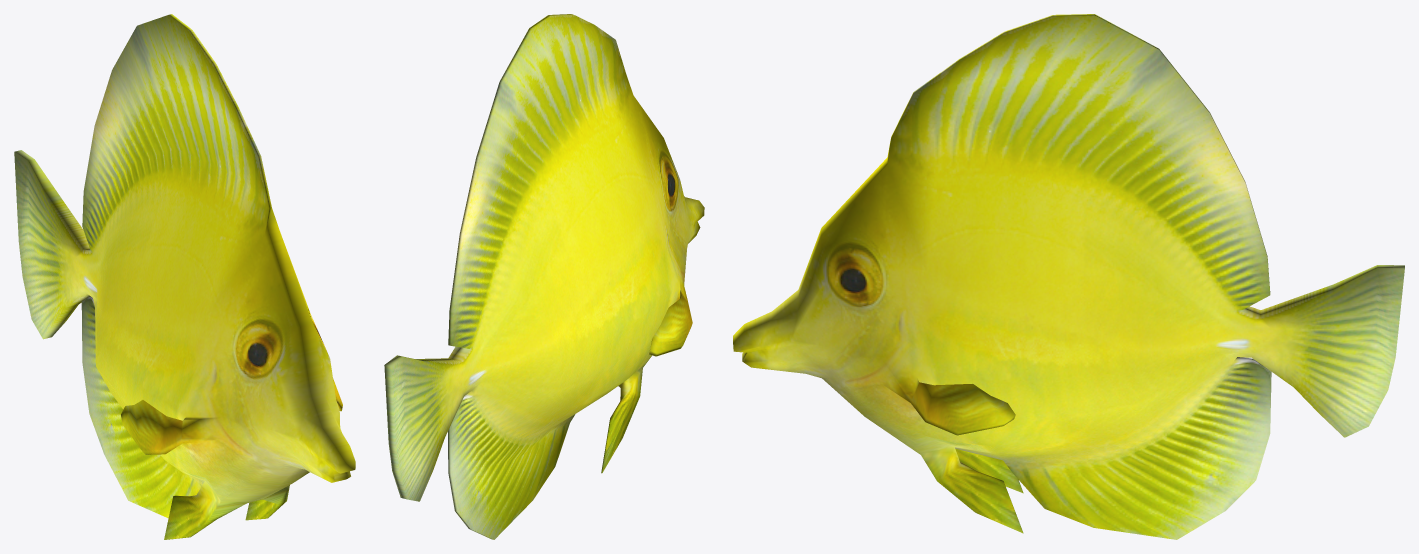
Rendered from fish5.glb.
3 views of the same model, side by side, from view 1: azimuth 30°, elevation 25°; view 2: azimuth 150°, elevation 25°; view 3: azimuth 270°, elevation 25° (orthographic). The views are drawn at different scales.
Parts seen in each view (by area): view 1: Asset3DLoader.sceneRoot; view 2: Asset3DLoader.sceneRoot; view 3: Asset3DLoader.sceneRoot.
Part boxes in pixels (bbox=[...]): Asset3DLoader.sceneRoot: bbox=[14, 14, 355, 539]; Asset3DLoader.sceneRoot: bbox=[384, 14, 704, 539]; Asset3DLoader.sceneRoot: bbox=[733, 14, 1404, 539].
Bounding box in the file's own units: 152 × 389 × 452.
Materials: 1 (1 with a texture image).
